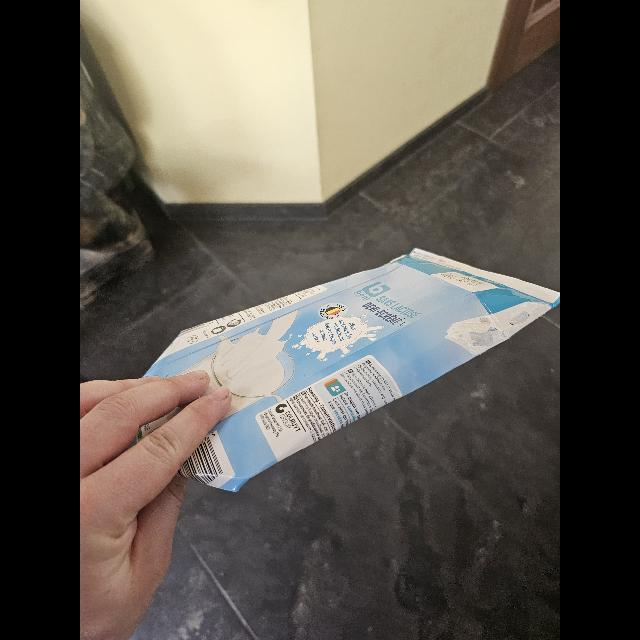Plastic: (125, 246, 560, 494)
